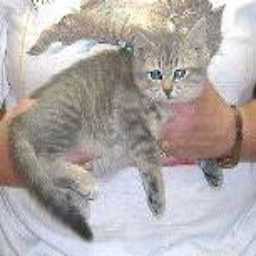cat: (10, 17, 216, 225)
